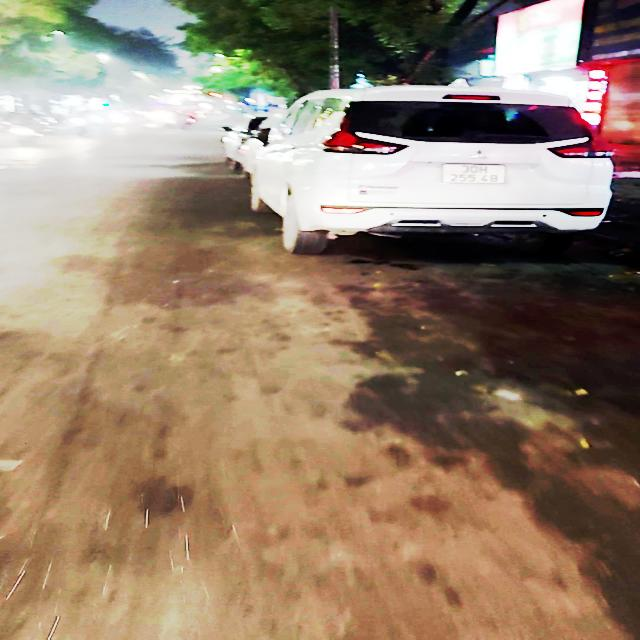license_plate: (440, 162, 512, 186)
